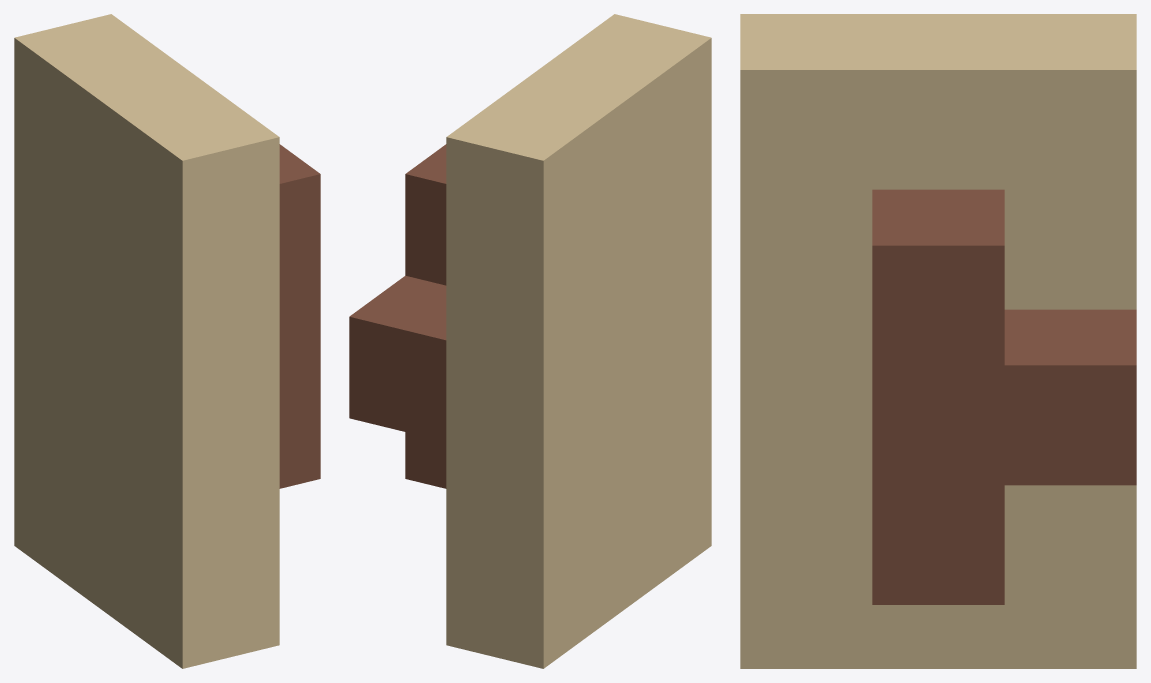
Rendered from Switch00.gltf.
3 renders of one model, left to right at view 1: azimuth 30°, elevation 25°; view 2: azimuth 150°, elevation 25°; view 3: azimuth 270°, elevation 25°, orthographic. The views are drawn at different scales.
Visible parts, largest first — view 1: base, btn4, btn3, btn2; view 2: base, btn3, btn4; view 3: base, btn4, btn3, btn2.
Part boxes in pixels (box(x1,y1,x2,y2)): base: box(14, 14, 279, 668); btn4: box(279, 144, 320, 488); btn3: box(279, 276, 320, 386); btn2: box(279, 175, 320, 285); base: box(446, 14, 711, 668); btn3: box(349, 275, 446, 441); btn4: box(405, 144, 446, 488); base: box(740, 14, 1136, 668); btn4: box(872, 189, 1004, 604); btn3: box(872, 309, 1136, 485); btn2: box(872, 245, 1004, 365).
Size of the model in its own units: 2 by 5 by 3.
